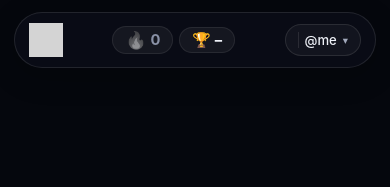
Header account menu layout › puts Notifications beside this week, then View Profile and Sign Out side by side
Click the button "@me ▾" at (323, 40), box [284, 24, 361, 56]
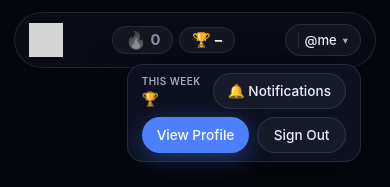
Check: the element showing "This Week 🏆 🔔 Notifications" is shown, box [142, 73, 346, 109]
